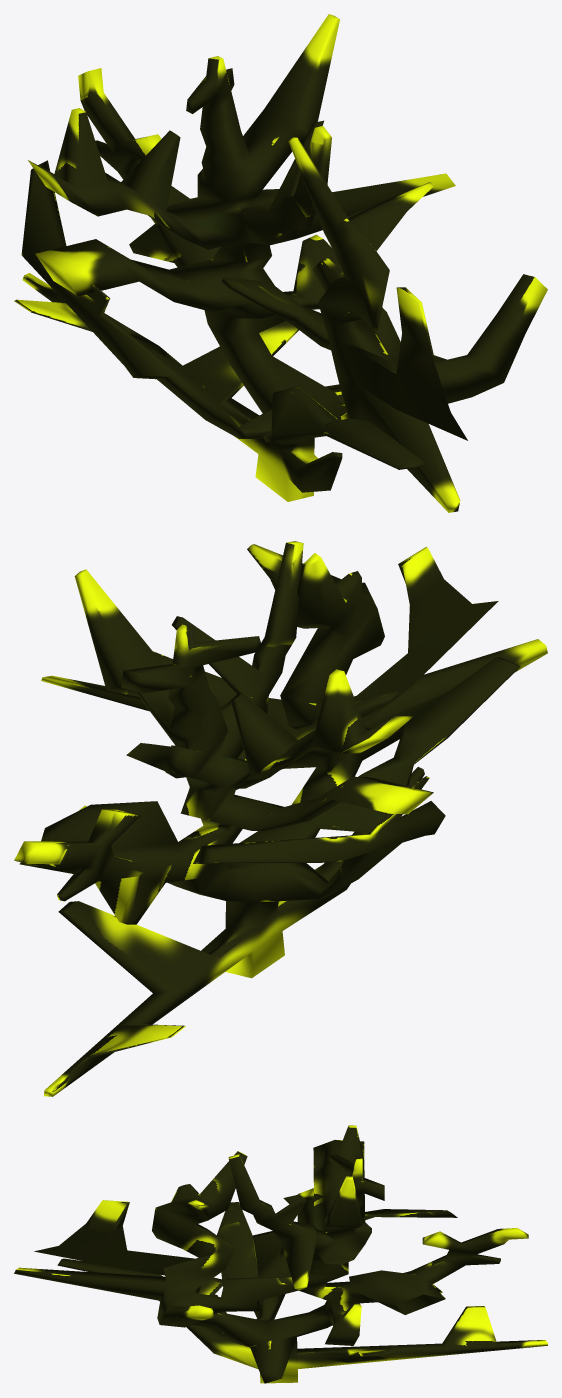
The model's file is plante9.fbx.
3 views of the same model, one above another, from view 1: azimuth 30°, elevation 25°; view 2: azimuth 150°, elevation 25°; view 3: azimuth 270°, elevation 25° (orthographic). The views are drawn at different scales.
Parts seen in each view (by area): view 1: Cube.001; view 2: Cube.001; view 3: Cube.001.
Part boxes in pixels (bbox=[...]): Cube.001: bbox=[14, 14, 547, 512]; Cube.001: bbox=[14, 541, 547, 1096]; Cube.001: bbox=[14, 1125, 547, 1383].
Bounding box in the file's own units: 4335 × 4361 × 9025.
1 material, 1 textured.
